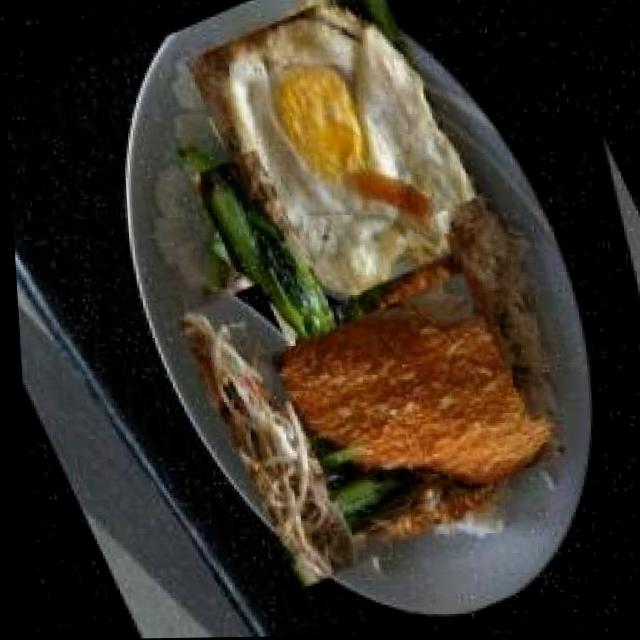fried_chicken: (262, 262, 561, 548)
fried_eggs: (178, 0, 496, 318)
mung_bean_sprouts: (171, 283, 381, 593)
rice: (431, 193, 580, 425)
water_spinach: (187, 149, 357, 401)
